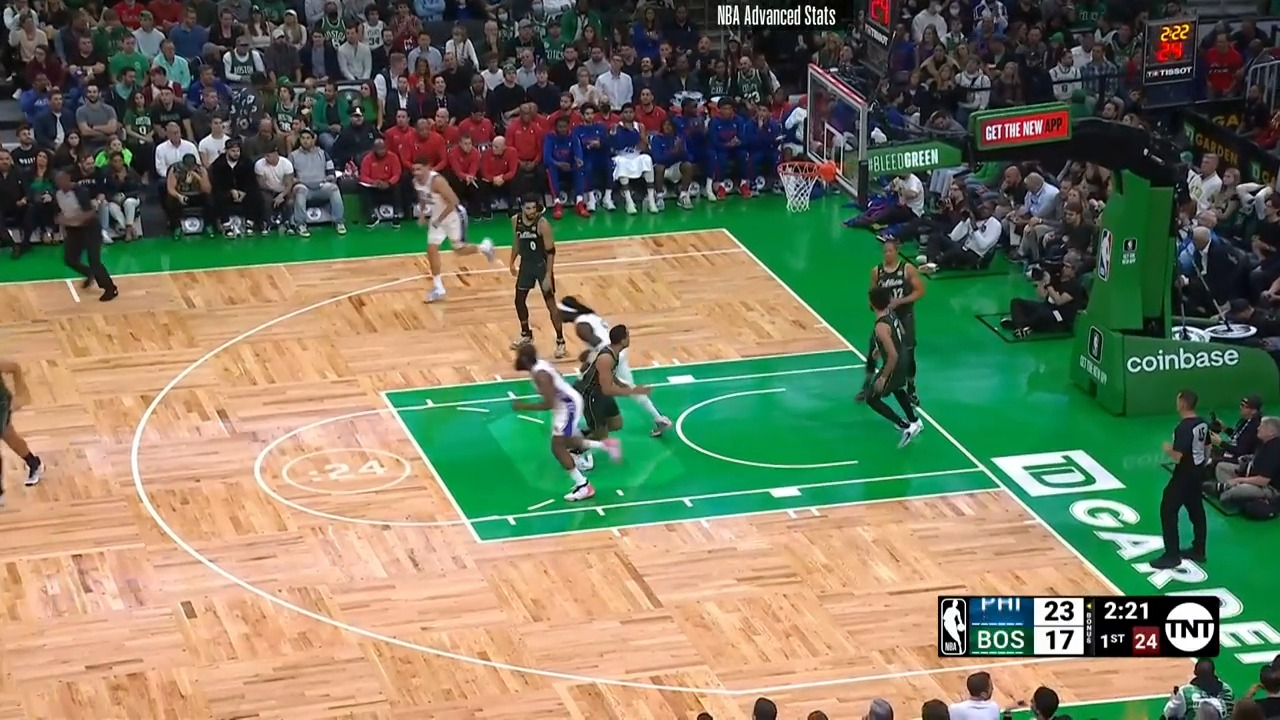net: (776, 154, 837, 212)
player: (514, 338, 615, 505), (569, 319, 666, 466), (406, 156, 497, 304), (855, 289, 922, 453), (867, 237, 926, 413), (512, 192, 573, 355), (0, 323, 46, 501)
referee: (1147, 388, 1217, 581), (47, 169, 114, 309)
